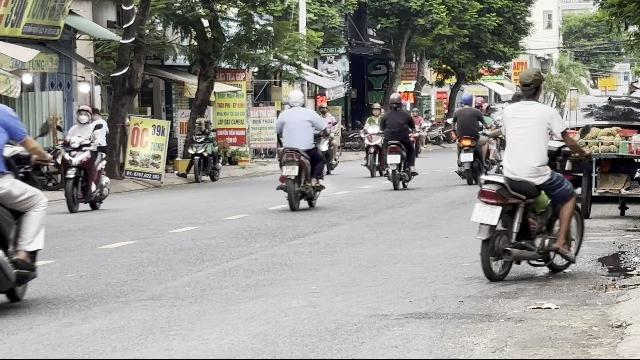helmet: (74, 104, 92, 124), (286, 89, 304, 107)
licenseplate: (472, 203, 501, 223), (282, 164, 298, 176)
motorcyclist: (469, 65, 591, 284), (272, 88, 326, 209), (60, 103, 112, 212)
nohelmet: (516, 66, 544, 100)
